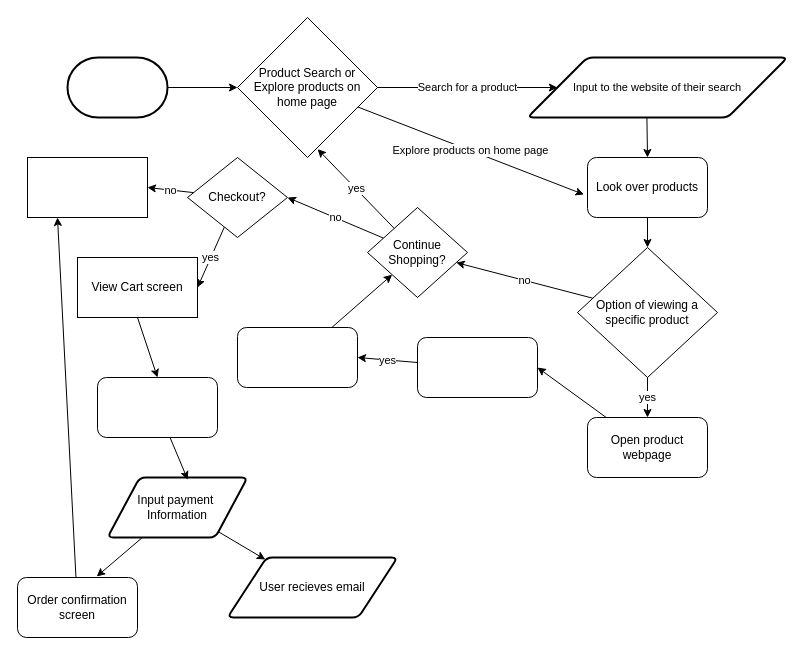
Some shapes in this 806 by 655 pixel diagram are drawn without their labels. Each missing label, with the centre of its shape:
"Add to cart" belongs at point 477,367.
"Cart confirmation" belongs at point 297,357.
"Leave website" belongs at point 87,187.
"User enters site" belongs at point 117,87.
"View payment screen" belongs at point 157,407.
